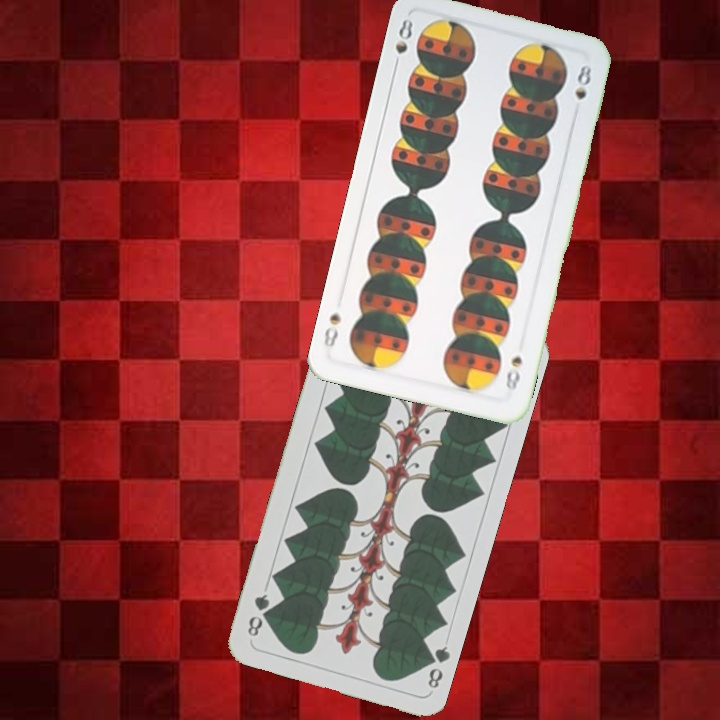G8: (419, 642, 452, 691)
S8: (389, 15, 416, 73), (501, 352, 525, 399)
